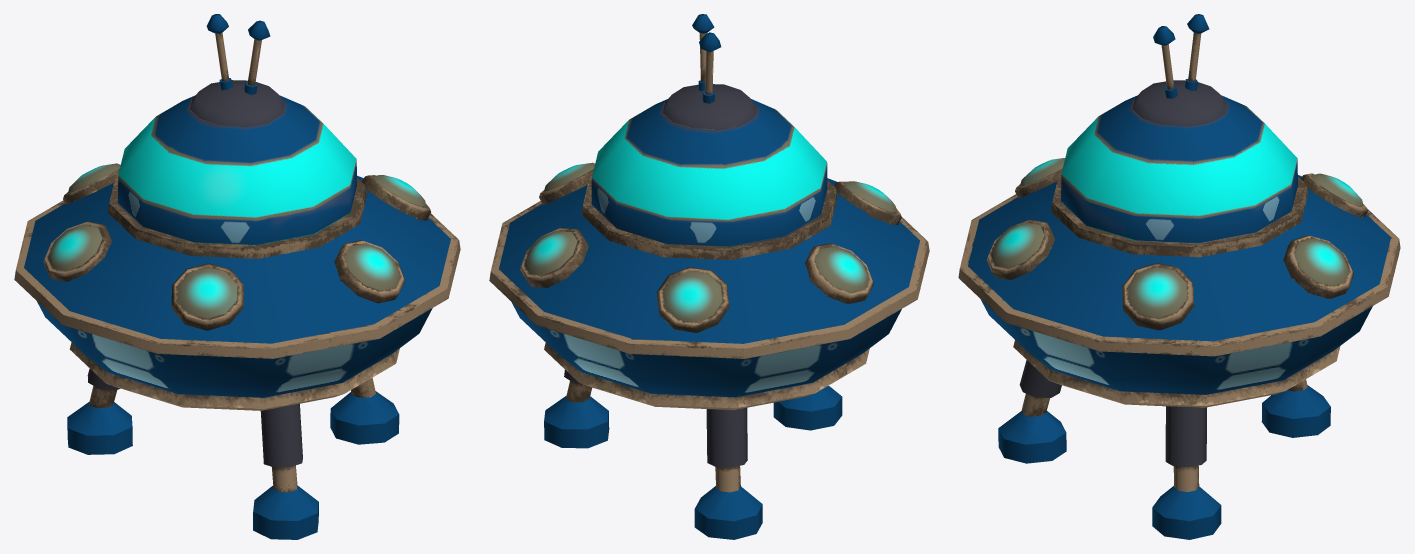
Rendered from SM_Flying_Saucer.fbx.
The picture shows the model from 3 angles, left to right: view 1: azimuth 30°, elevation 25°; view 2: azimuth 150°, elevation 25°; view 3: azimuth 270°, elevation 25°; orthographic projection.
Parts seen in each view (by area): view 1: SM_Flying_Saucer; view 2: SM_Flying_Saucer; view 3: SM_Flying_Saucer.
Boxes of the visible parts, bbox=[...] form: SM_Flying_Saucer: bbox=[14, 14, 460, 539]; SM_Flying_Saucer: bbox=[489, 14, 929, 539]; SM_Flying_Saucer: bbox=[958, 14, 1400, 539].
Size of the model in its own units: 141 by 141 by 155.
Materials: 1 (1 with a texture image).
